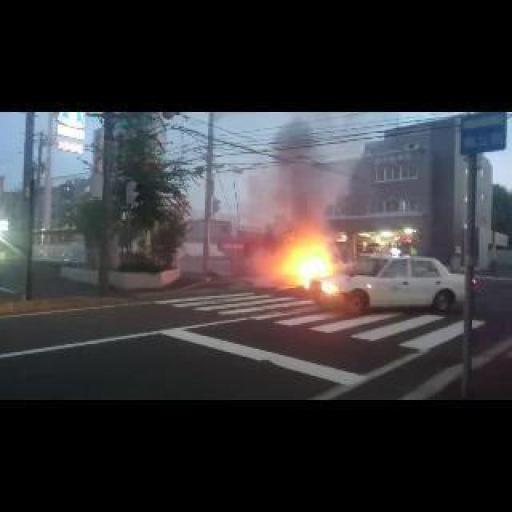smoke: (246, 117, 344, 240), (212, 227, 278, 290), (280, 240, 338, 293)
